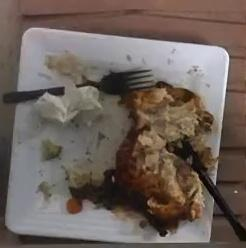chicken: (115, 80, 215, 228)
vegetables: (66, 169, 128, 213)
